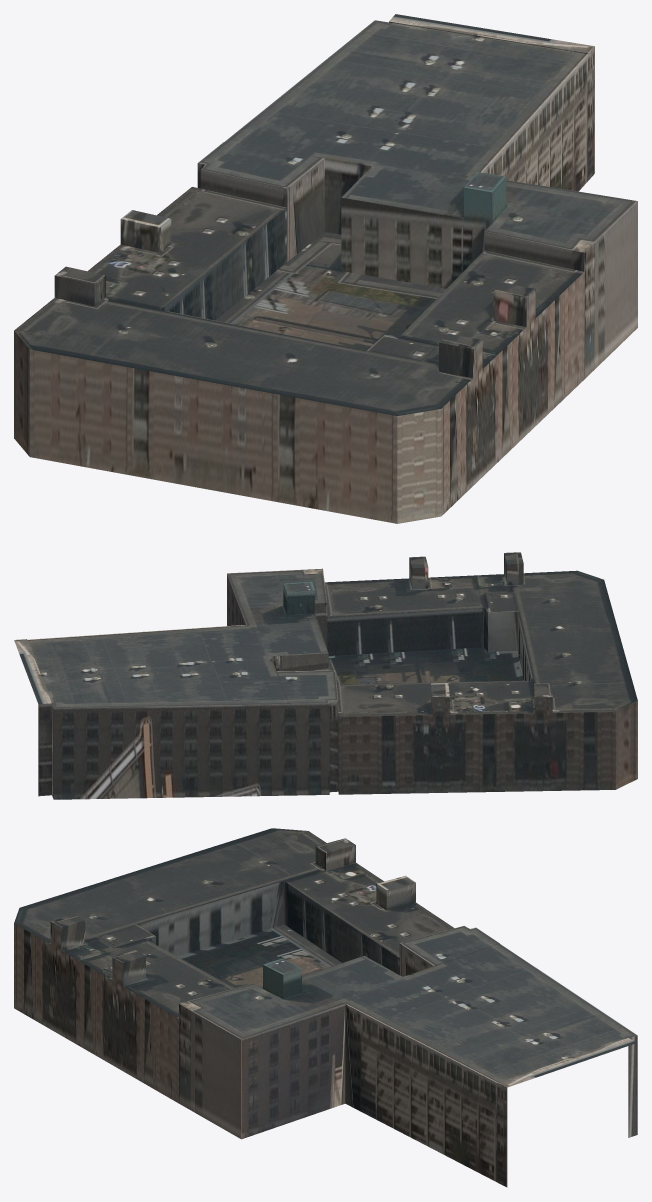
3 views of the same model, one above another, from view 1: azimuth 30°, elevation 25°; view 2: azimuth 150°, elevation 25°; view 3: azimuth 270°, elevation 25° (orthographic). The views are drawn at different scales.
Visible parts, largest first — view 1: Z_UP; view 2: Z_UP; view 3: Z_UP.
Boxes of the visible parts, x1=… form: Z_UP: x1=14, y1=14, x2=637, y2=523; Z_UP: x1=14, y1=552, x2=637, y2=799; Z_UP: x1=14, y1=828, x2=637, y2=1187.
Size of the model in its own units: 87.55 by 18.43 by 84.04.
Materials: 13 (12 with a texture image).
